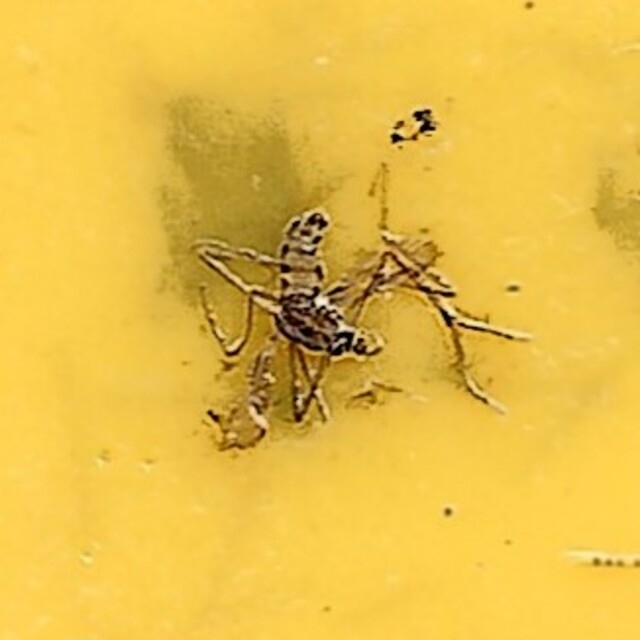Nematocera: (196, 192, 444, 448)
